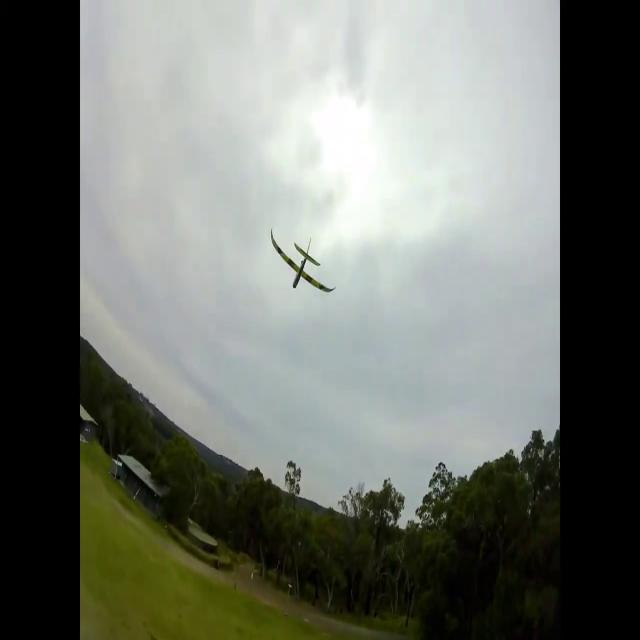iha: (302, 261, 304, 263)
